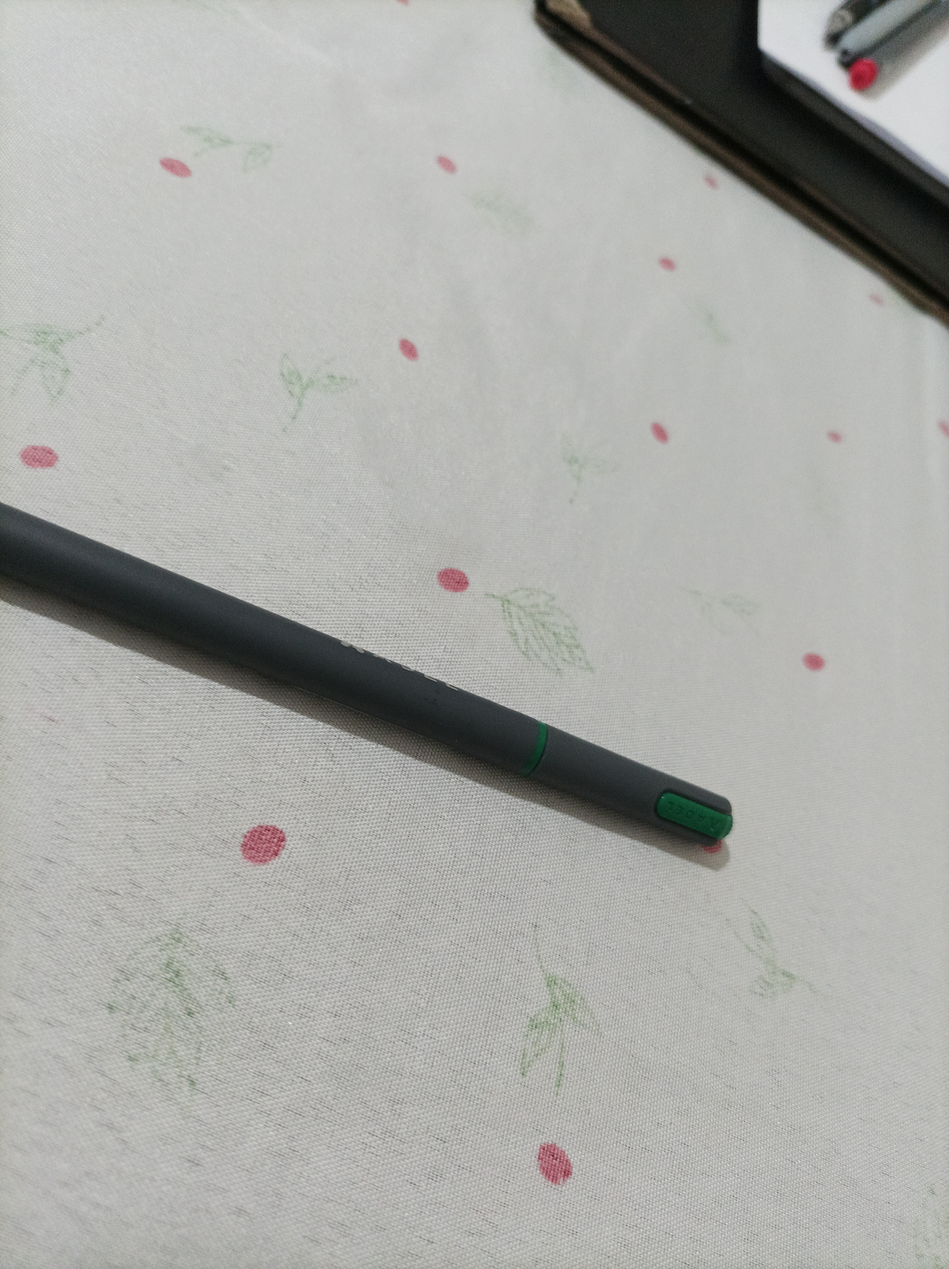plastic: (11, 482, 743, 869)
